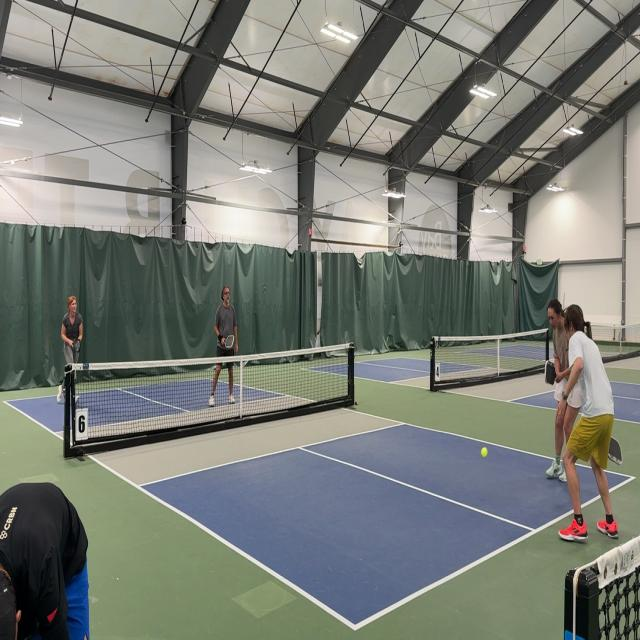ball: (481, 445, 488, 460)
